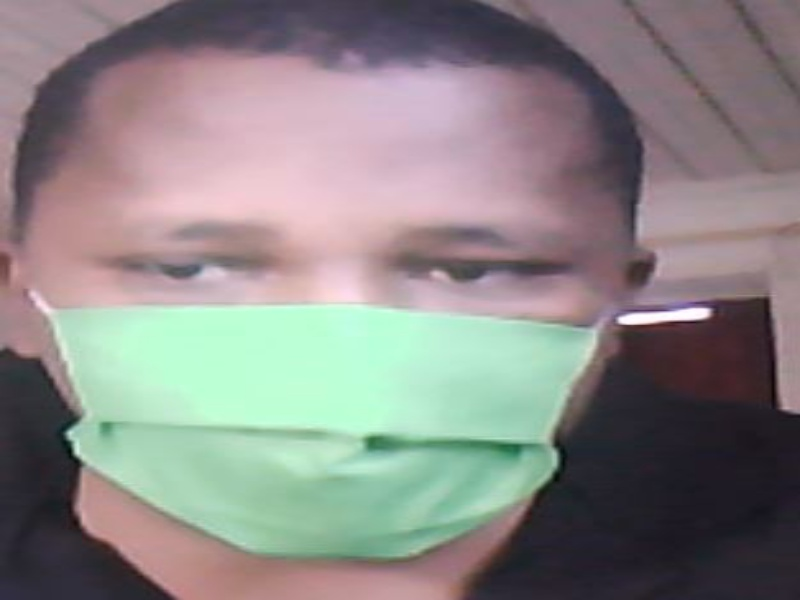TsisyArotava: (1, 3, 686, 563)
